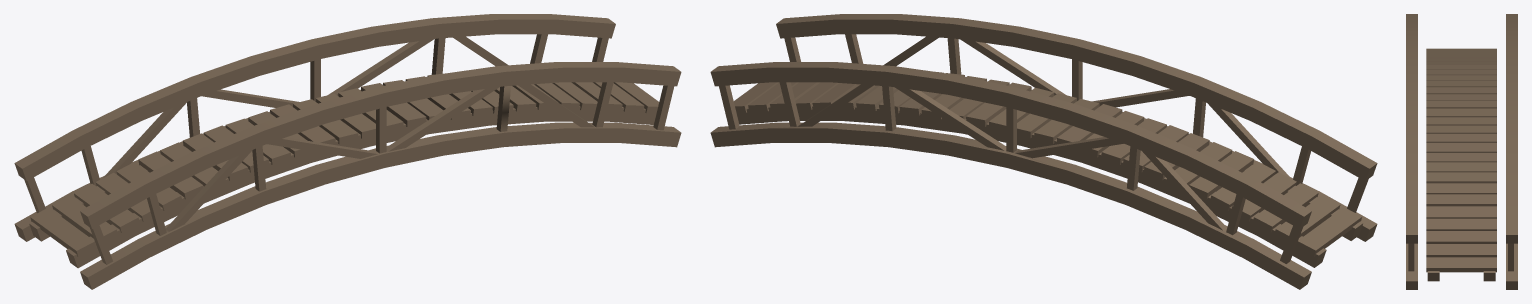
Rendered from Wood_Bridge01.fbx.
3 views of the same model, side by side, from view 1: azimuth 30°, elevation 25°; view 2: azimuth 150°, elevation 25°; view 3: azimuth 270°, elevation 25° (orthographic). The views are drawn at different scales.
Visible parts, largest first — view 1: Wood_Bridge01; view 2: Wood_Bridge01; view 3: Wood_Bridge01.
Part boxes in pixels (left/top/right/bottom): Wood_Bridge01: left=14, top=14, right=681, bottom=289; Wood_Bridge01: left=710, top=14, right=1377, bottom=289; Wood_Bridge01: left=1406, top=14, right=1517, bottom=289.
Bounding box in the file's own units: 10 × 2.02 × 2.14.
